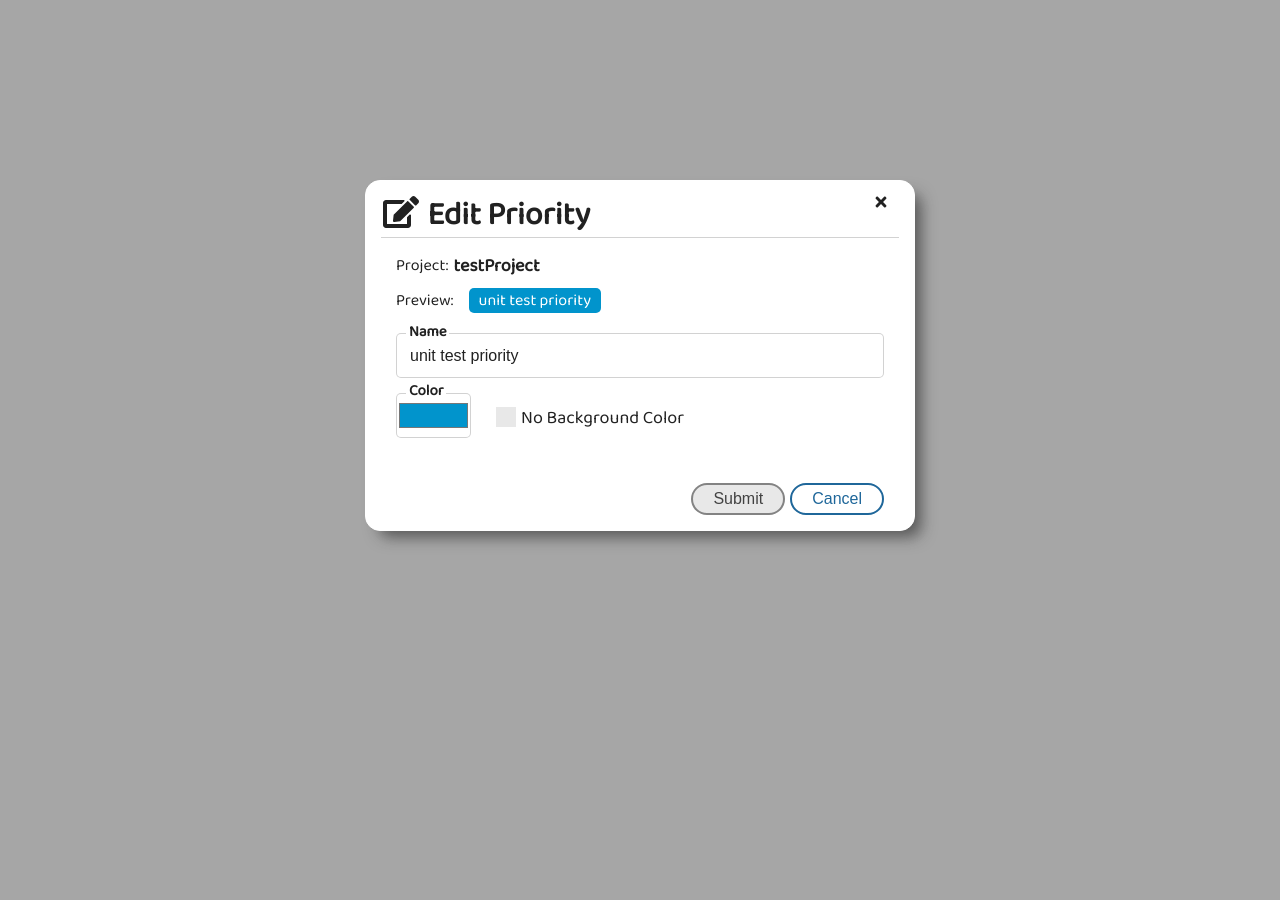
Scenario: <ProjectConfigModal /> › should enable the submit button if there are any changes
Expected: the button with test id "projectConfigModal.actions.primaryButton" is disabled, x1=691 y1=483 x2=785 y2=515
Type "#ffffff" into the colour field with test id "colorInput.input".
click(434, 416); type("#ffffff")  # box x1=396 y1=393 x2=471 y2=438
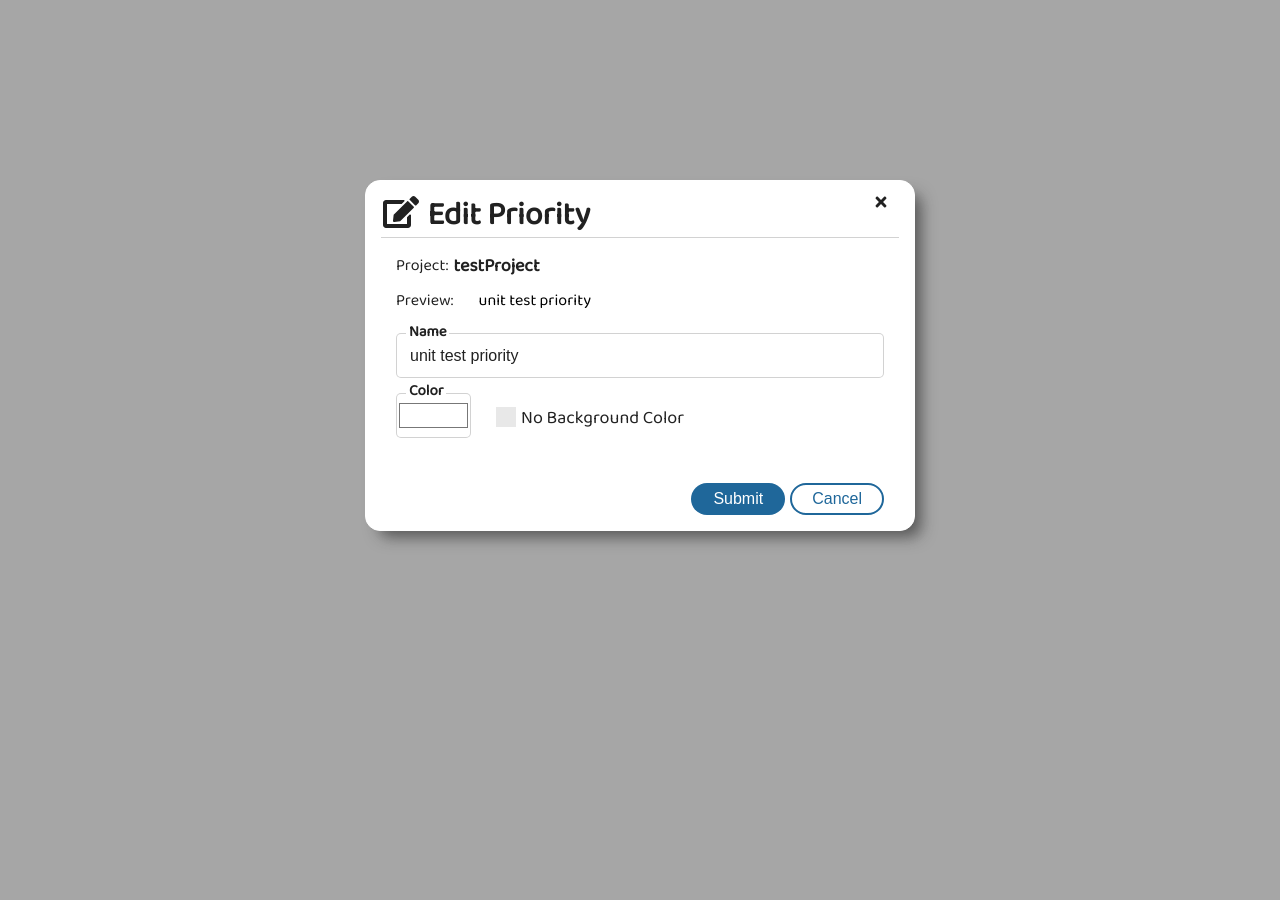
Expected: the button with test id "projectConfigModal.actions.primaryButton" is enabled, x1=691 y1=483 x2=785 y2=515
